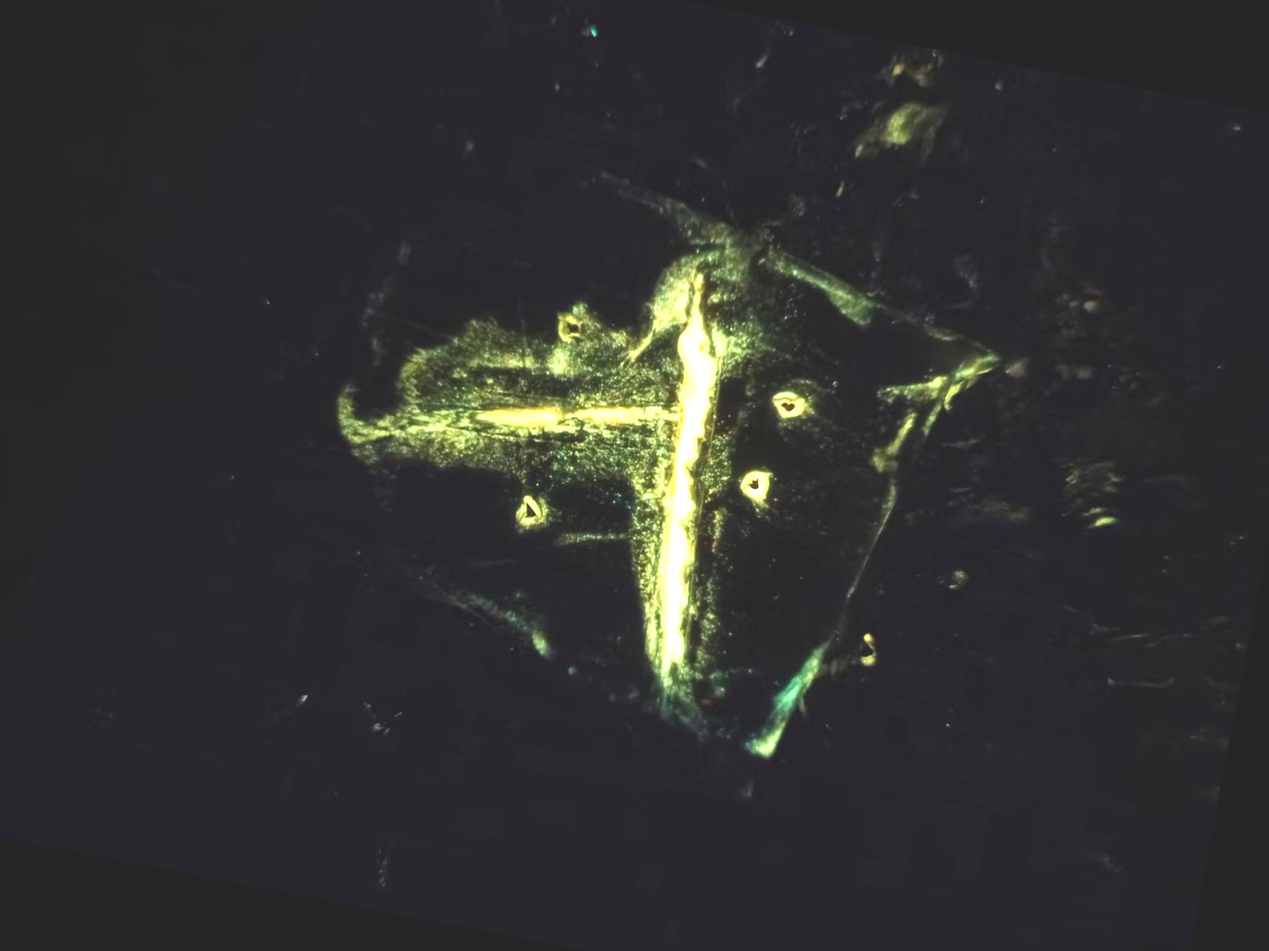Crater: (727, 446, 803, 518), (759, 369, 830, 437), (495, 481, 564, 543)
Fissure: (586, 249, 784, 720), (338, 337, 679, 514)
